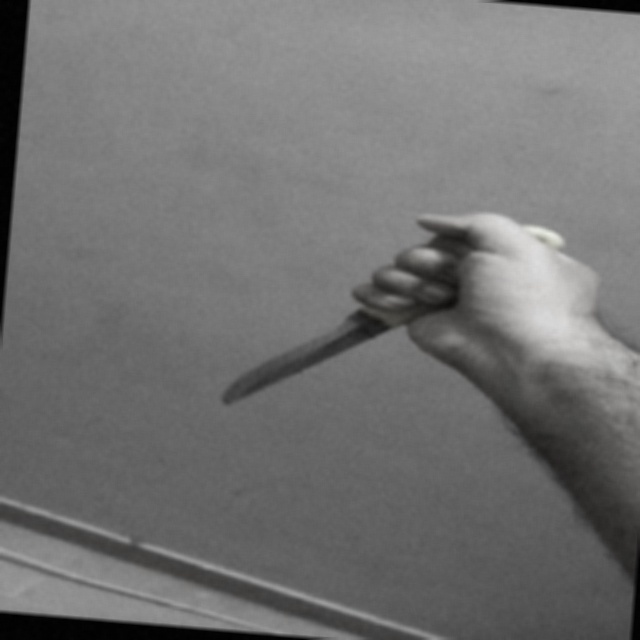Sharp-Object: (221, 201, 565, 431)
